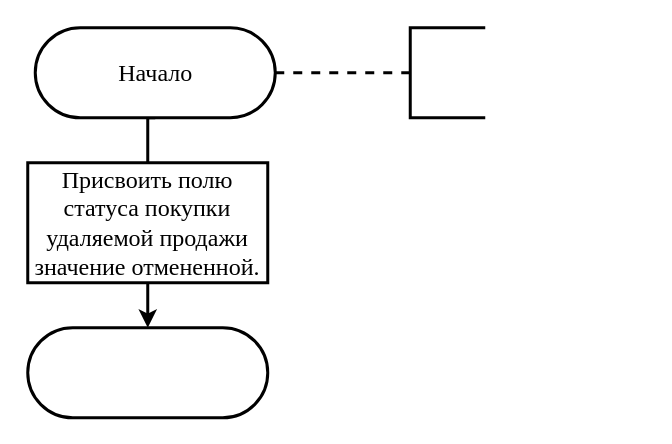
Image size: 672x444. Some labels were removed from this diagram. Each missing label, with the centre of its shape:
"delete_sale_trigger" goes at point (447, 72).
"Конец" goes at point (147, 372).
